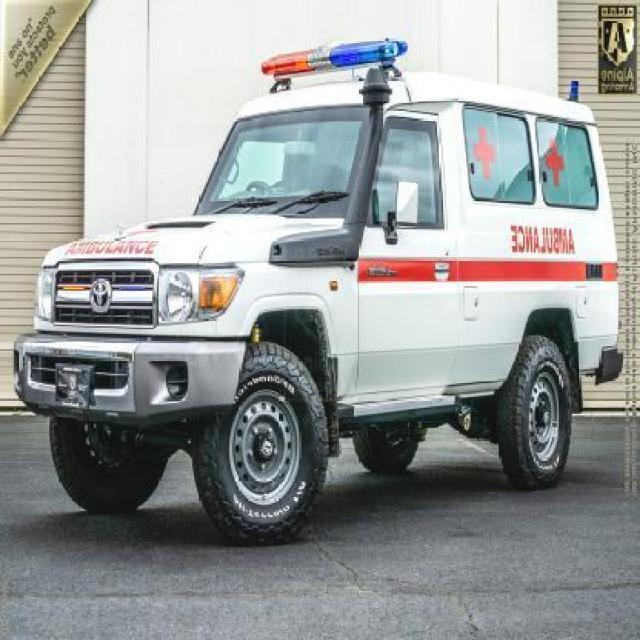emergency: (12, 34, 624, 546)
